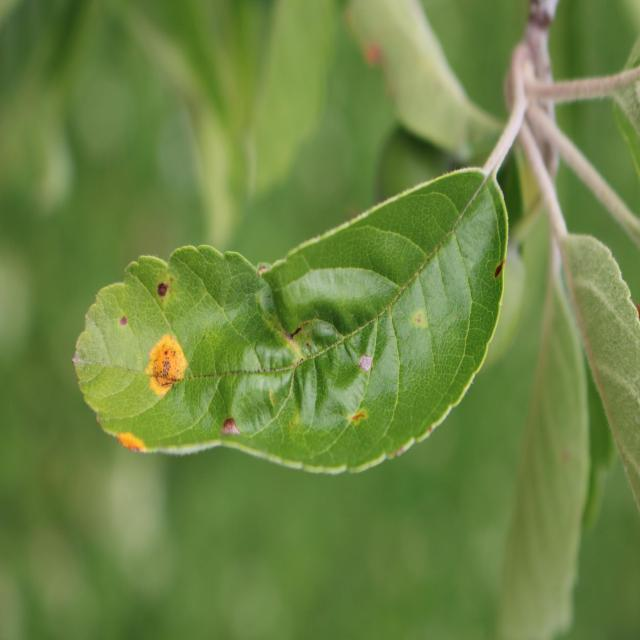Rust: (147, 328, 190, 404), (111, 422, 152, 468), (403, 306, 436, 338), (336, 403, 375, 428)
